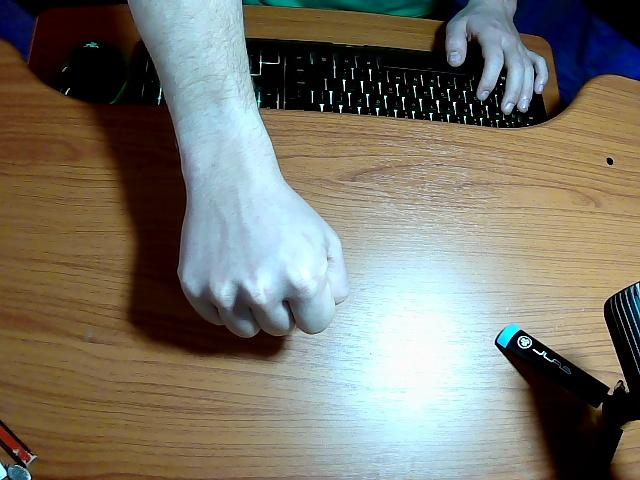rock: (130, 0, 349, 337)
